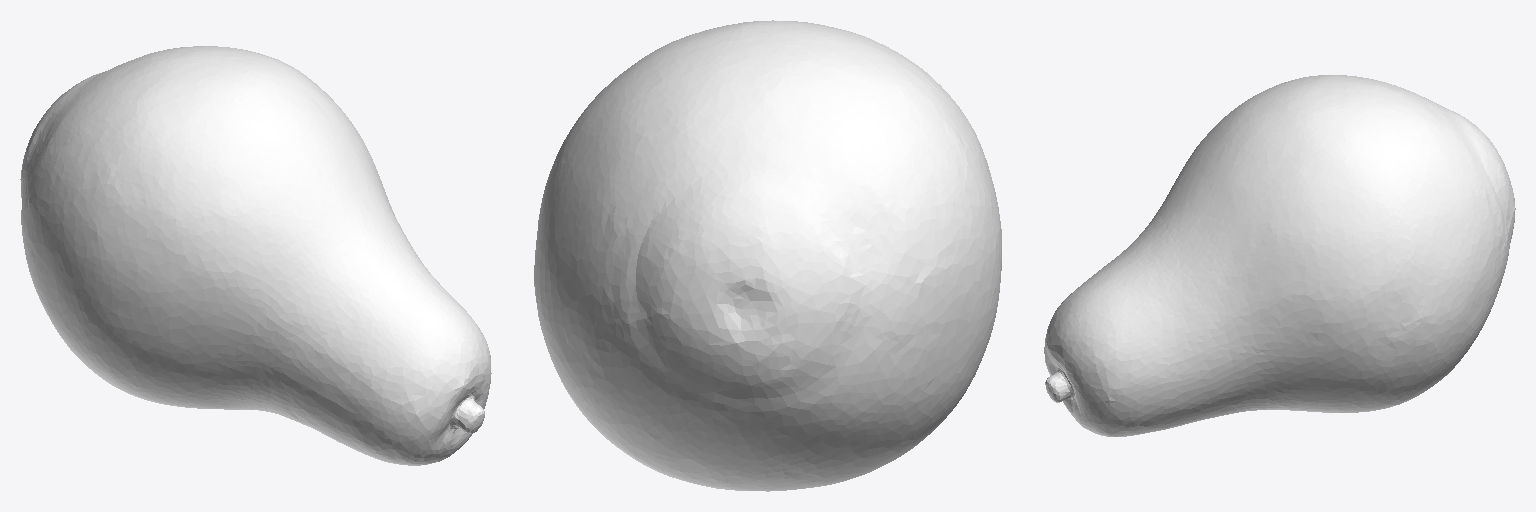
robot.urdf — pear:
<robot name="pear">
    <link name="base_link">
        <visual>
            <origin xyz="-0.0 -0.0 0.0" rpy="0.0 0.0 0.0" />
            <geometry>
                <mesh filename="pear/textured.obj" scale="1 1 1" />
            </geometry>
            <material name="texture">
                <color rgba="1.0 1.0 1.0 1.0" />
            </material>
        </visual>
        <collision>
            <origin xyz="-0.0 -0.0 0.0" rpy="0.0 0.0 0.0" />
            <geometry>
                <mesh filename="pear/textured_coacd_0.stl" scale="1 1 1" />
            </geometry>
        </collision>
        <collision>
            <origin xyz="-0.0 -0.0 0.0" rpy="0.0 0.0 0.0" />
            <geometry>
                <mesh filename="pear/textured_coacd_1.stl" scale="1 1 1" />
            </geometry>
        </collision>
        <collision>
            <origin xyz="-0.0 -0.0 0.0" rpy="0.0 0.0 0.0" />
            <geometry>
                <mesh filename="pear/textured_coacd_2.stl" scale="1 1 1" />
            </geometry>
        </collision>
        <collision>
            <origin xyz="-0.0 -0.0 0.0" rpy="0.0 0.0 0.0" />
            <geometry>
                <mesh filename="pear/textured_coacd_3.stl" scale="1 1 1" />
            </geometry>
        </collision>
        <inertial>
            <mass value="0.049" />
            <inertia ixx="1e-3" ixy="0.0" ixz="0.0" iyy="1e-3" iyz="0.0" izz="1e-3" />
        </inertial>
    </link>
</robot>

--- Facts derived from the render (not from the file) ---
The picture shows the robot from 3 angles, left to right: view 1: azimuth 30°, elevation 25°; view 2: azimuth 150°, elevation 25°; view 3: azimuth 270°, elevation 25°; orthographic projection.
Model pear with 1 links and 0 joints (none), rooted at base_link, posed all joints at 0.
Visible links, largest first — view 1: base_link; view 2: base_link; view 3: base_link.
Boxes of the visible links, box(x1,y1,x2,y2) form: base_link: box(20, 46, 491, 465); base_link: box(534, 20, 1001, 491); base_link: box(1044, 75, 1515, 436).
Bounding box of the posed robot: 0.0662 × 0.0947 × 0.0658 m (x, y, z).
1 mesh visuals loaded from 1 distinct referenced files (1 OBJ).